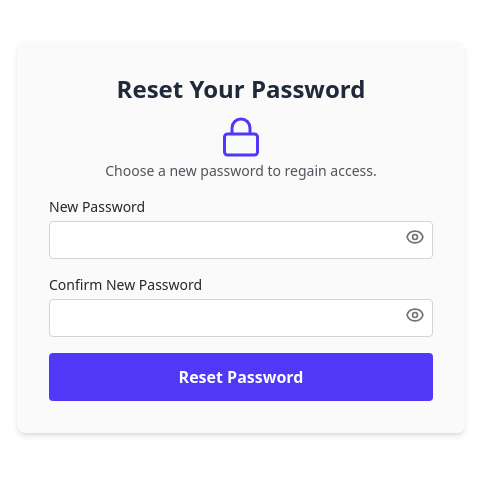
Scenario: ResetPassword › shows error for password mismatch
This screenshot has width=483, height=492.
Type "Password123!" into the password field labelled "New Password" at (241, 240), box [49, 221, 433, 259]
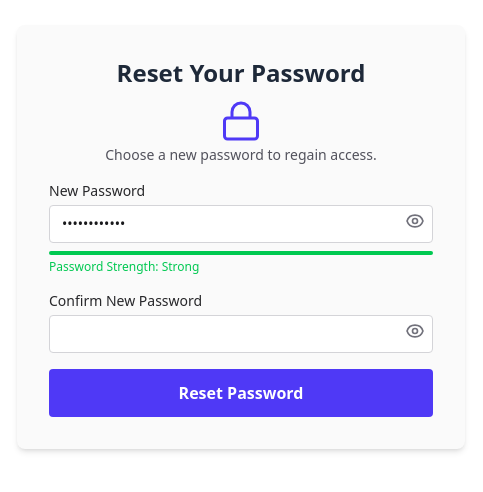
Type "Different123!" into the password field labelled "Confirm New Password" at (241, 334), box [49, 315, 433, 353]
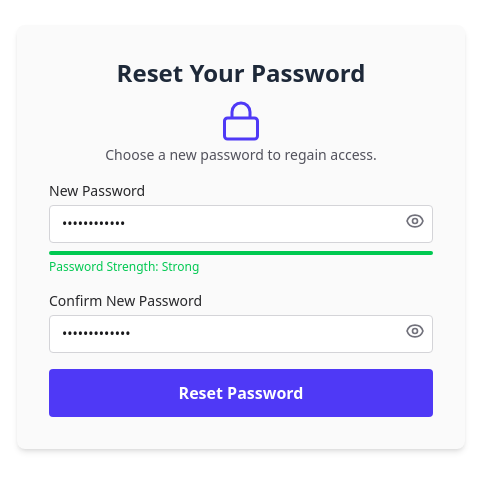
Click the button "Reset Password" at (241, 393), box [49, 369, 433, 417]
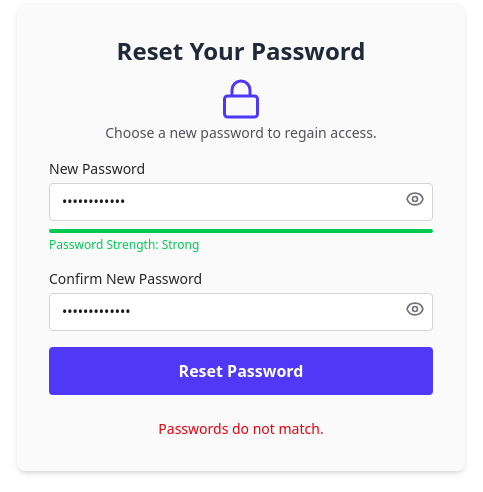
expect the text "Passwords do not match." is shown: met, box [158, 419, 324, 438]
